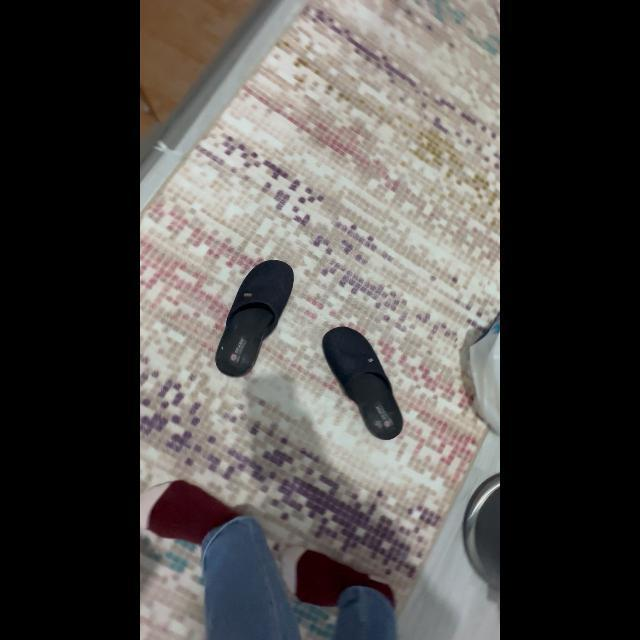slipper: (316, 323, 408, 443), (213, 255, 301, 378)
